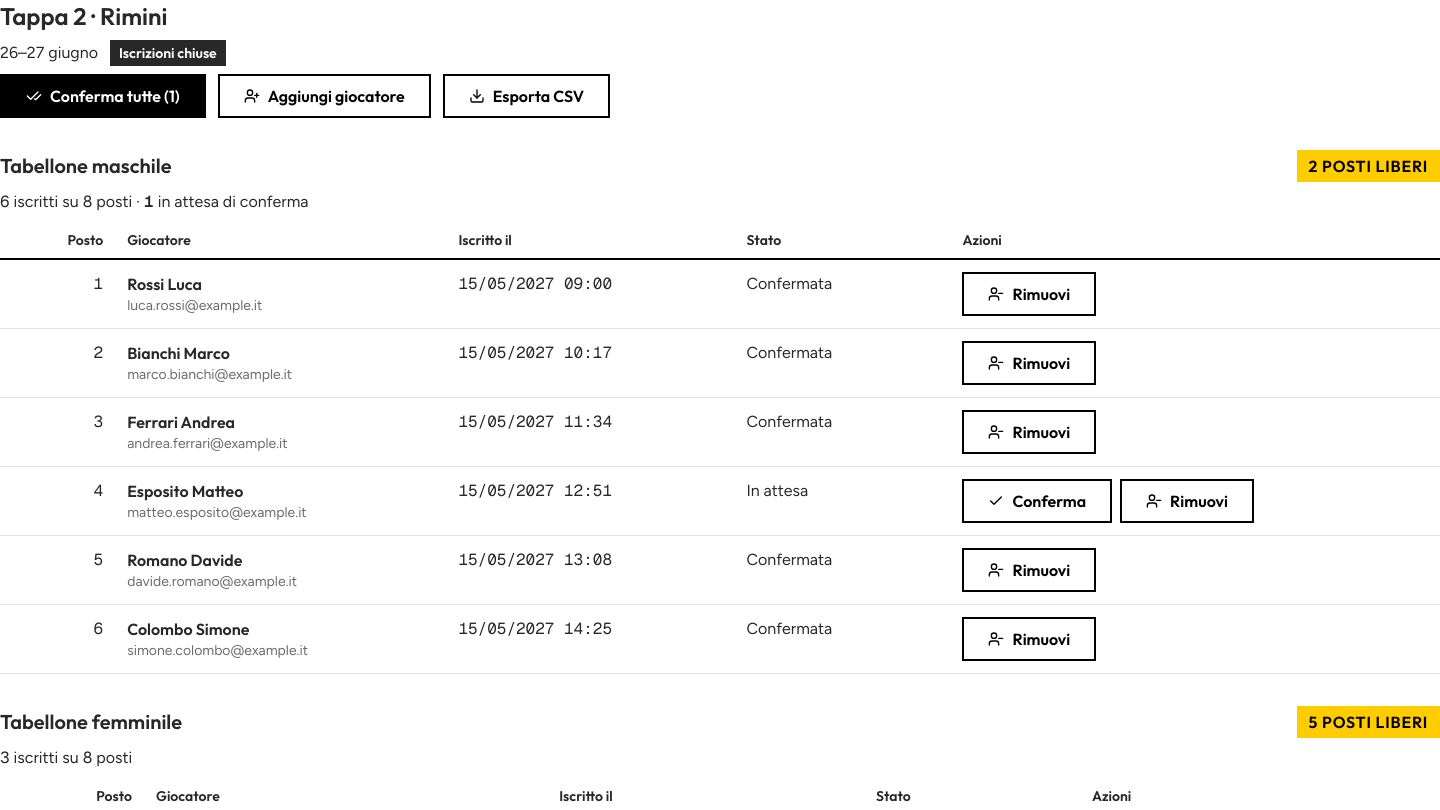
Test: IscrittiTappa (w-admin-iscritti) › «Annulla» non rimuove e ridà il focus al pulsante
Click the button with aria-label "Rimuovi Bianchi Marco" at (1029, 363), box [962, 341, 1096, 385]
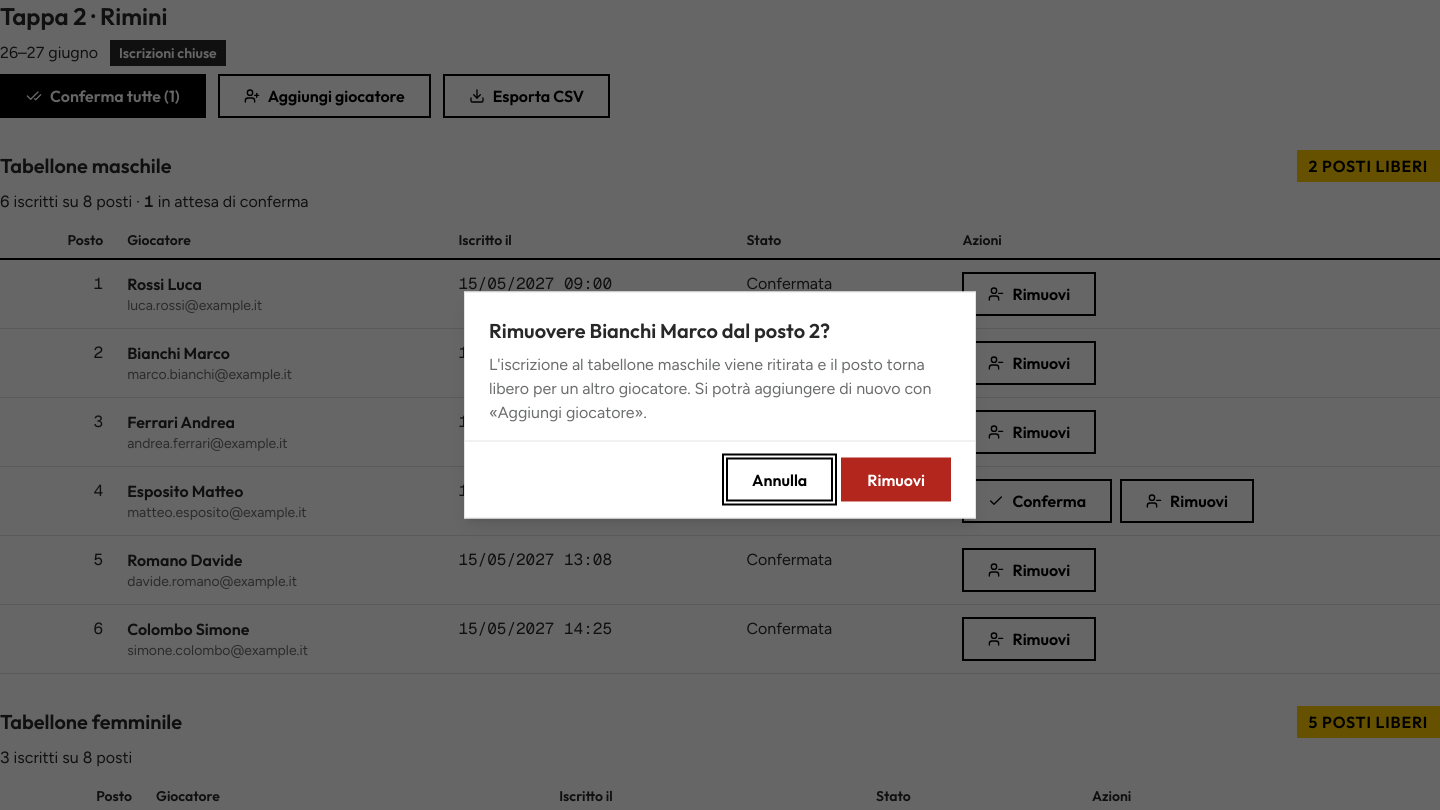
Press Enter
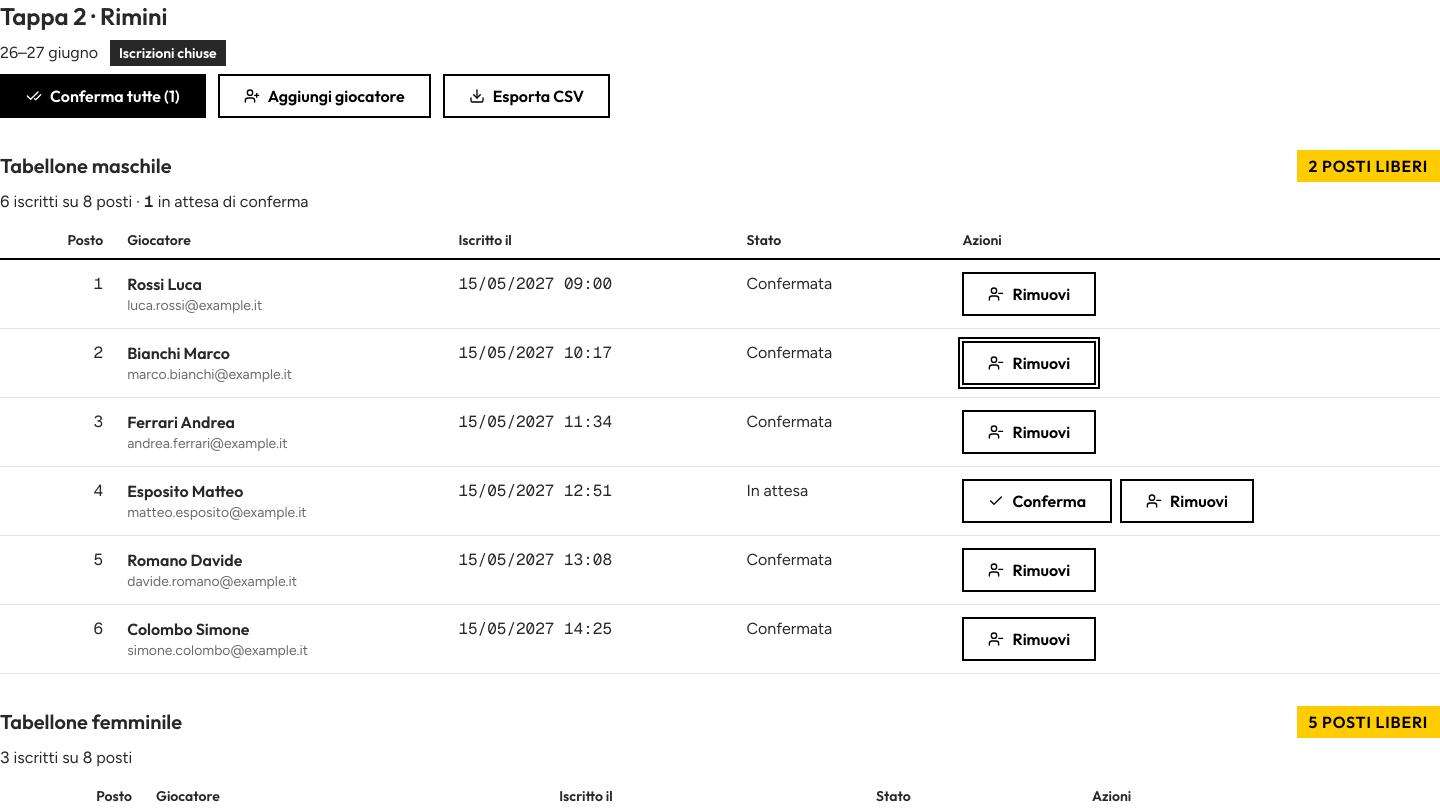
expect the dialog is gone: met
